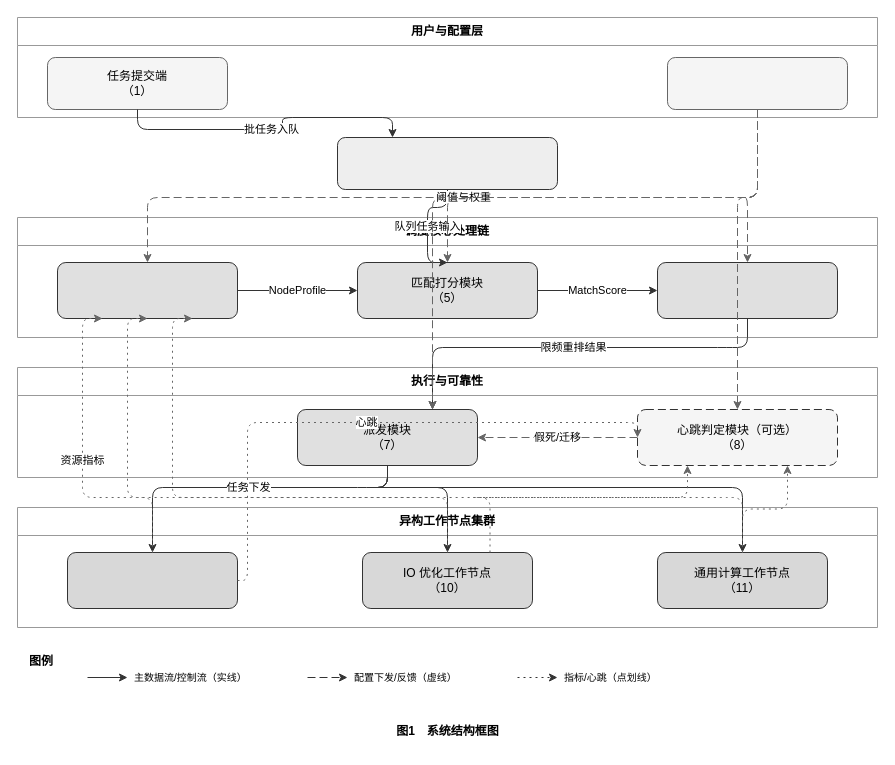
Some shapes in this 895 by 765 pixel diagram are drawn without their labels. Here are the shapes that lost their labels. From the top down, the centre of each, then its label:
At (757,83): "配置中心 （2）".
At (447,163): "全局待执行任务队列 （3）".
At (147,290): "资源画像聚合模块 （4）".
At (747,290): "限频重排队模块 （6）".
At (152,580): "高性能工作节点 （9）".
